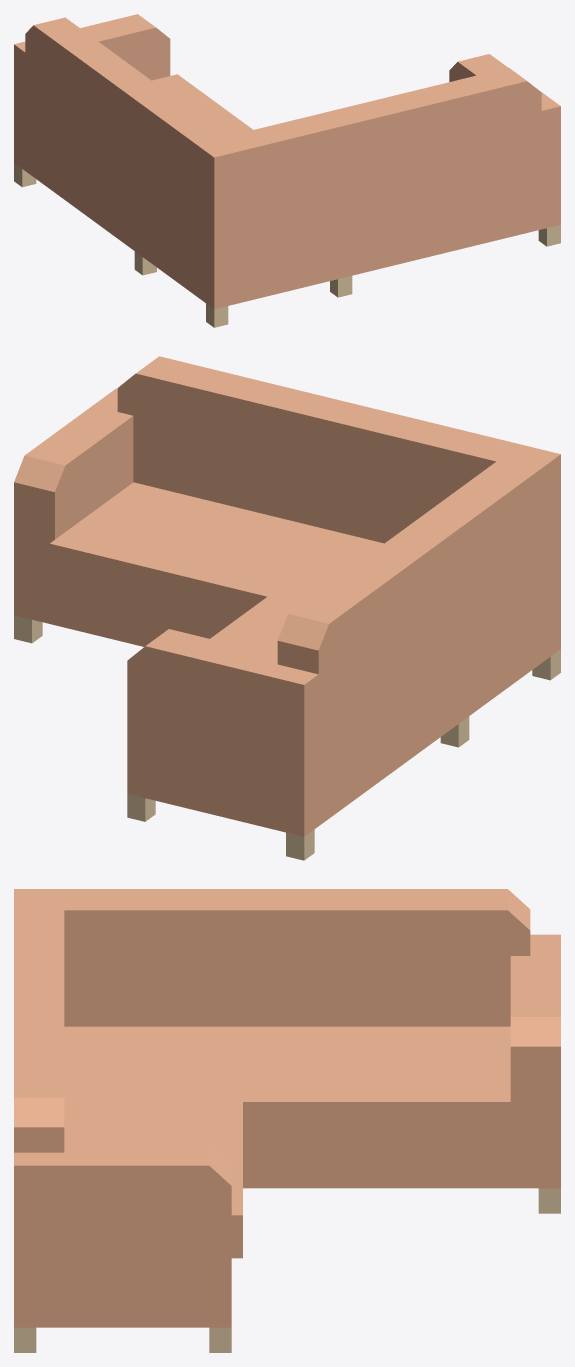
The model's file is loungeSofaCorner.glb.
The picture shows the model from 3 angles, top to bottom: view 1: azimuth 30°, elevation 25°; view 2: azimuth 150°, elevation 25°; view 3: azimuth 270°, elevation 25°; orthographic projection. The views are drawn at different scales.
Visible parts, largest first — view 1: loungeSofaCorner; view 2: loungeSofaCorner; view 3: loungeSofaCorner.
Part boxes in pixels (x1,y1,x2,y2): loungeSofaCorner: [14, 14, 560, 327]; loungeSofaCorner: [14, 356, 560, 860]; loungeSofaCorner: [14, 889, 560, 1352].
Bounding box in the file's own units: 9.8 × 4.6 × 9.8.
